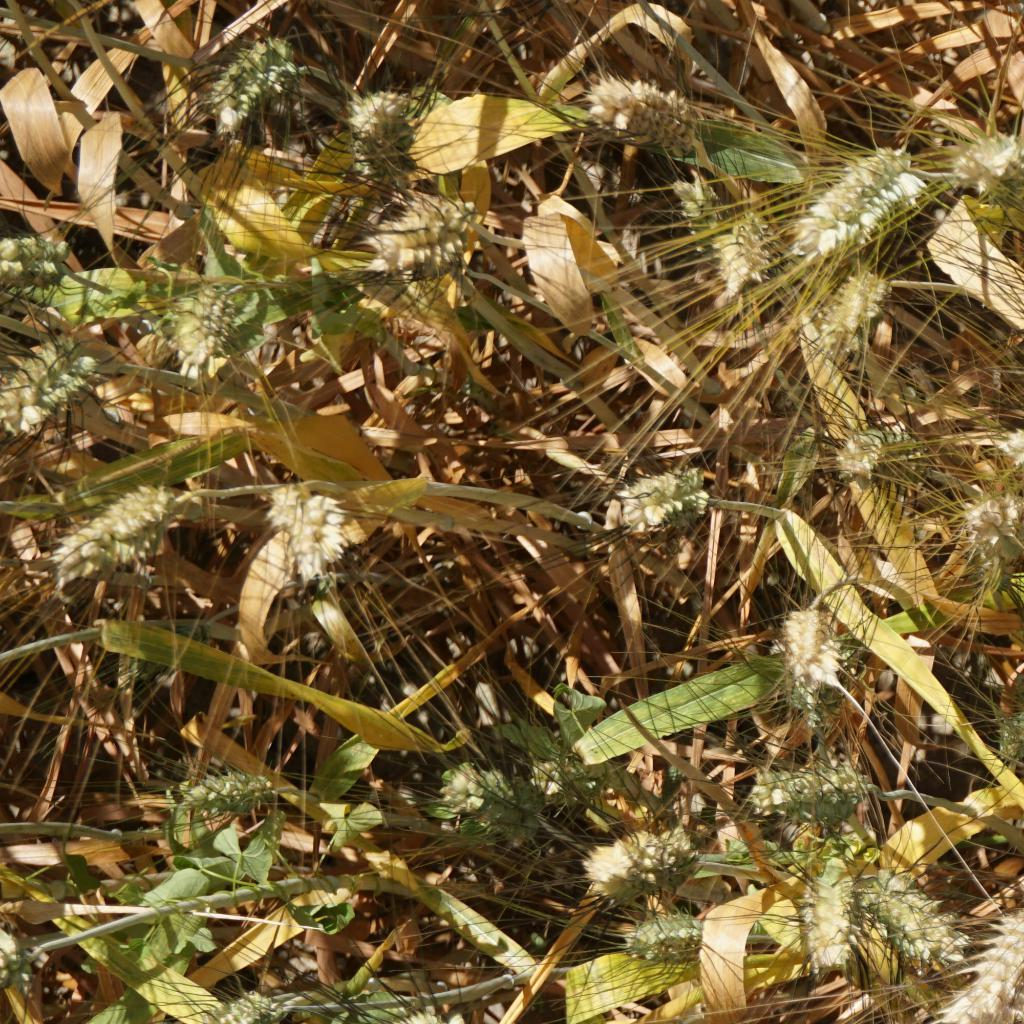0-0: (792, 146, 918, 263), (268, 488, 364, 600), (570, 824, 709, 901), (201, 27, 306, 126), (943, 897, 1024, 1024), (855, 868, 962, 963), (583, 71, 702, 155), (0, 340, 107, 432), (423, 754, 537, 839), (54, 492, 177, 569), (596, 466, 706, 549), (770, 594, 843, 716), (369, 199, 480, 279), (817, 414, 926, 494), (794, 860, 861, 966), (747, 762, 865, 821), (161, 271, 229, 371), (340, 81, 410, 172), (814, 270, 892, 350), (614, 908, 718, 968), (719, 210, 786, 303), (956, 124, 1024, 211), (177, 764, 282, 816), (960, 485, 1024, 561), (519, 752, 611, 801), (0, 225, 60, 290), (190, 986, 291, 1024), (669, 171, 716, 244), (994, 407, 1024, 484), (993, 694, 1024, 758), (0, 919, 28, 985), (1017, 1000, 1024, 1024)
